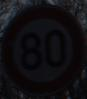Speed Limit -80-: (0, 0, 86, 98)
